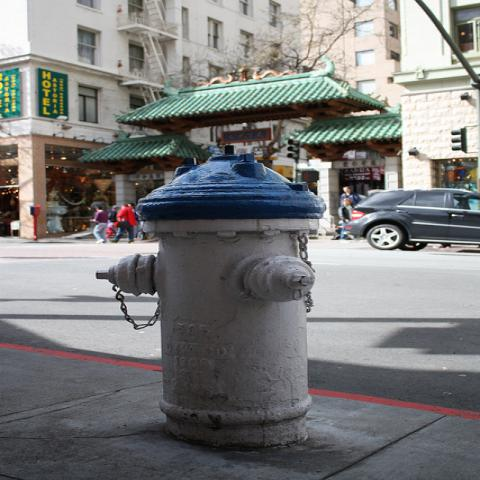car: (348, 188, 479, 252)
